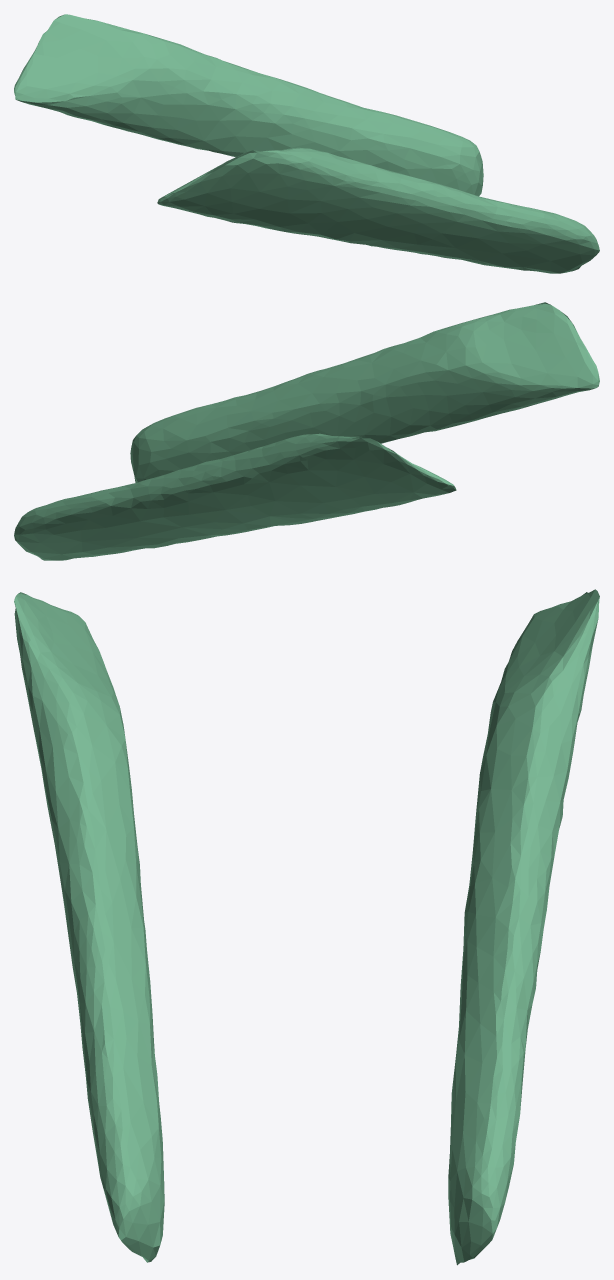
The picture shows the model from 3 angles, top to bottom: view 1: azimuth 30°, elevation 25°; view 2: azimuth 150°, elevation 25°; view 3: azimuth 270°, elevation 25°; orthographic projection. The views are drawn at different scales.
Parts seen in each view (by area): view 1: 919.obj; view 2: 919.obj; view 3: 919.obj.
Part boxes in pixels (x1=…): 919.obj: x1=14, y1=14, x2=599, y2=273; 919.obj: x1=14, y1=302, x2=599, y2=560; 919.obj: x1=14, y1=589, x2=599, y2=1265.
Bounding box in the file's own units: 3123 × 1608 × 2203.
